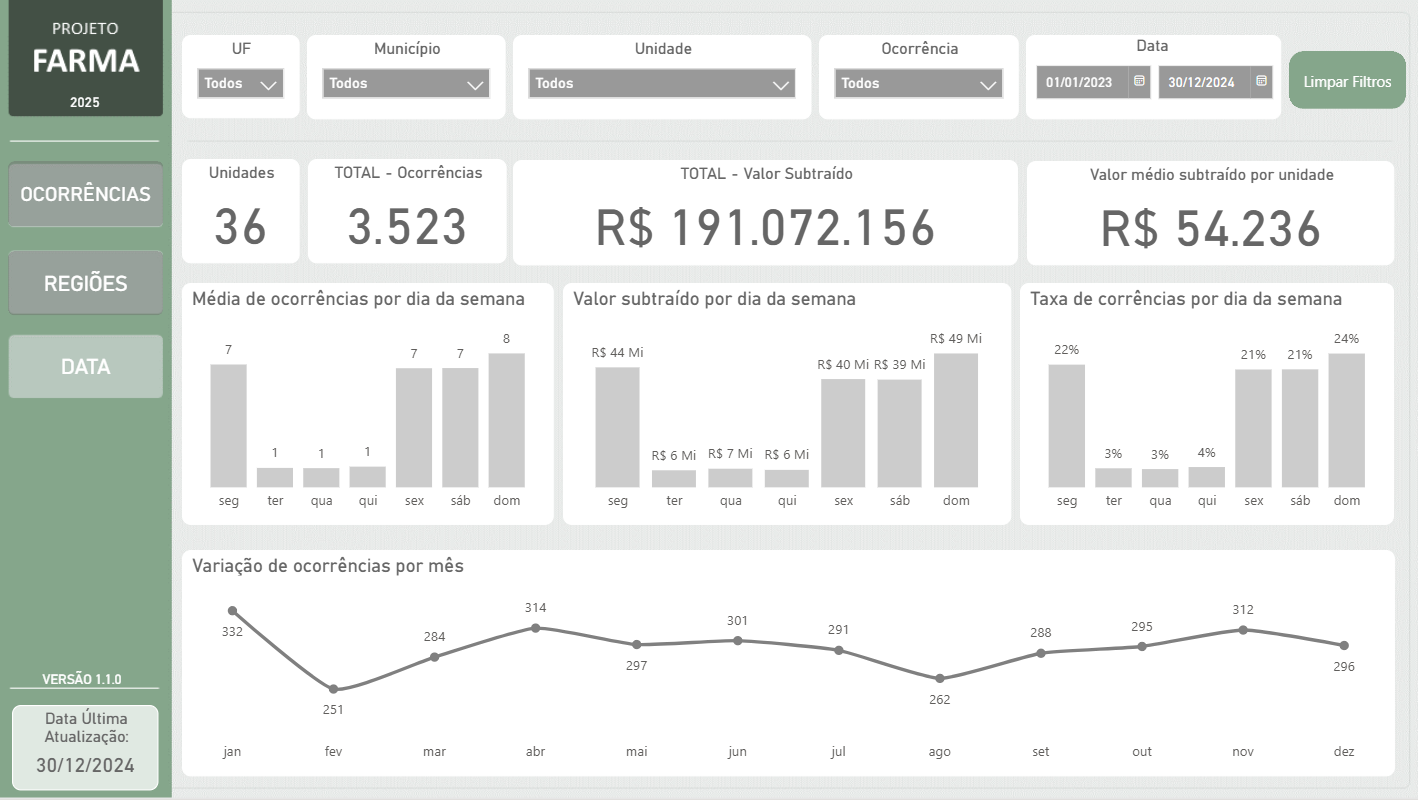

Layout of this report page (visuals, bound fields, positions):
{"tool":"powerbi","page":{"name":"Visualização por data","canvas":[1280,720],"ordinal":2},"visuals":[{"type":"columnChart","title":"Média de ocorrências por dia da semana","fields":{"Y":["1medidas.Média Ocorrências por DiaSemana"],"Category":["Calendario.NomeDiaSemanaAbrev"]},"box":[163.6,255.2,335.4,218.1],"z":0},{"type":"columnChart","title":"Valor subtraído por dia da semana","fields":{"Y":["1medidas.valorSubtraido"],"Category":["Calendario.NomeDiaSemanaAbrev"]},"box":[507.3,255.2,404.4,218.1],"z":1000},{"type":"card","title":"Data Última Atualização:","fields":{"Values":["Max(ocorrencias_farmacias csv.data)"]},"box":[10.6,634.9,132.1,77.1],"z":2000},{"type":"textbox","box":[0,597.5,147.5,30],"z":3000},{"type":"textbox","box":[2.5,77.5,147.5,30],"z":4000},{"type":"shape","box":[7.3,226.4,140,58.2],"z":5000},{"type":"slicer","title":"Data","fields":{"Values":["ocorrencias_farmacias csv.data"]},"box":[925,31.5,230,75.6],"z":6000},{"type":"slicer","title":"Unidade","fields":{"Values":["ocorrencias_farmacias csv.unidade"]},"box":[462.7,31.5,269,75.6],"z":7000},{"type":"slicer","title":"Ocorrência","fields":{"Values":["ocorrencias_farmacias csv.ocorrencia"]},"box":[738.4,31.5,180,75.6],"z":8000},{"type":"slicer","title":"UF","fields":{"Values":["ocorrencias_farmacias csv.UF"]},"box":[164,31.9,105.5,75.4],"z":9000},{"type":"slicer","title":"Município","fields":{"Values":["ocorrencias_farmacias csv.cidade"]},"box":[277.1,31.5,179,75.6],"z":10000},{"type":"shape","box":[1161.6,46.1,105.5,52.3],"z":11000},{"type":"card","title":"TOTAL - Ocorrências","fields":{"Values":["1medidas.totalOcorrencias"]},"box":[277.2,143.3,178.9,94.4],"z":12000},{"type":"card","title":"TOTAL - Valor Subtraído","fields":{"Values":["1medidas.valorSubtraido"]},"box":[462.5,143.8,455,95],"z":13000},{"type":"card","title":"Unidades","fields":{"Values":["Count(ocorrencias_farmacias csv.unidade)"]},"box":[164.4,143.3,105.6,94.4],"z":14000},{"type":"card","title":"Valor médio subtraído por unidade","fields":{"Values":["1medidas.valorMedioSubtraidoPorUnidade"]},"box":[925,145.1,331.3,93.6],"z":15000},{"type":"lineChart","title":"Variação de ocorrências por mês","fields":{"Y":["1medidas.totalOcorrencias"],"Category":["Calendario.NomeMêsAbrev"]},"box":[163.6,495.9,1092.7,203.7],"z":16000},{"type":"columnChart","title":"Taxa de corrências por dia da semana","fields":{"Y":["1medidas.totalOcorrencias"],"Category":["Calendario.NomeDiaSemanaAbrev"]},"box":[918.8,255.2,337.5,218.1],"z":17000},{"type":"textbox","box":[7.2,313.8,139.9,46.3],"z":18000},{"type":"shape","box":[7.1,145.4,140.1,59.4],"z":19000}]}

Visuals, with their boxes in screenshot pixels (x1, y1, x2, y2), scaled from the page's 1280x720 canvas onto the 1418x800 screenshot:
"Média de ocorrências por dia da semana" columnChart: x1=181, y1=284, x2=553, y2=526
"Valor subtraído por dia da semana" columnChart: x1=562, y1=284, x2=1010, y2=526
"Data Última Atualização:" card: x1=12, y1=705, x2=158, y2=791
textbox: x1=0, y1=664, x2=163, y2=697
textbox: x1=3, y1=86, x2=166, y2=119
shape: x1=8, y1=252, x2=163, y2=316
"Data" slicer: x1=1025, y1=35, x2=1280, y2=119
"Unidade" slicer: x1=513, y1=35, x2=811, y2=119
"Ocorrência" slicer: x1=818, y1=35, x2=1017, y2=119
"UF" slicer: x1=182, y1=35, x2=299, y2=119
"Município" slicer: x1=307, y1=35, x2=505, y2=119
shape: x1=1287, y1=51, x2=1404, y2=109
"TOTAL - Ocorrências" card: x1=307, y1=159, x2=505, y2=264
"TOTAL - Valor Subtraído" card: x1=512, y1=160, x2=1016, y2=265
"Unidades" card: x1=182, y1=159, x2=299, y2=264
"Valor médio subtraído por unidade" card: x1=1025, y1=161, x2=1392, y2=265
"Variação de ocorrências por mês" lineChart: x1=181, y1=551, x2=1392, y2=777
"Taxa de corrências por dia da semana" columnChart: x1=1018, y1=284, x2=1392, y2=526
textbox: x1=8, y1=349, x2=163, y2=400
shape: x1=8, y1=162, x2=163, y2=228
